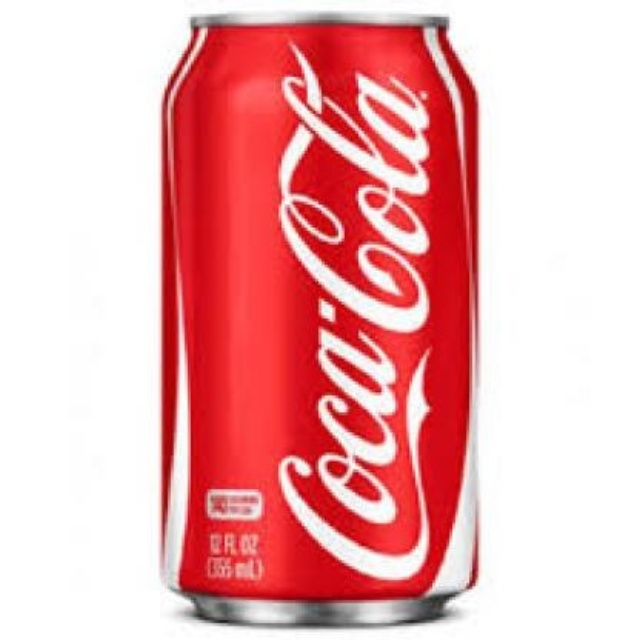trash: (163, 14, 475, 623)
